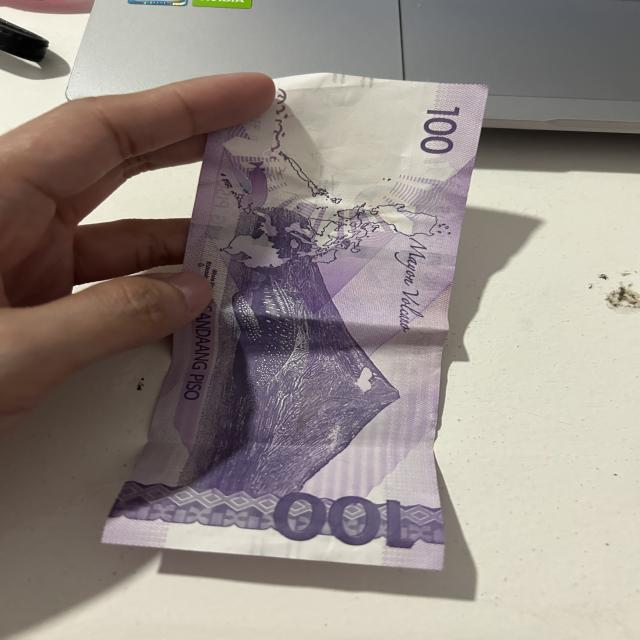100_whale: (227, 262, 299, 399)
100_whale_watermark: (237, 159, 280, 212)
